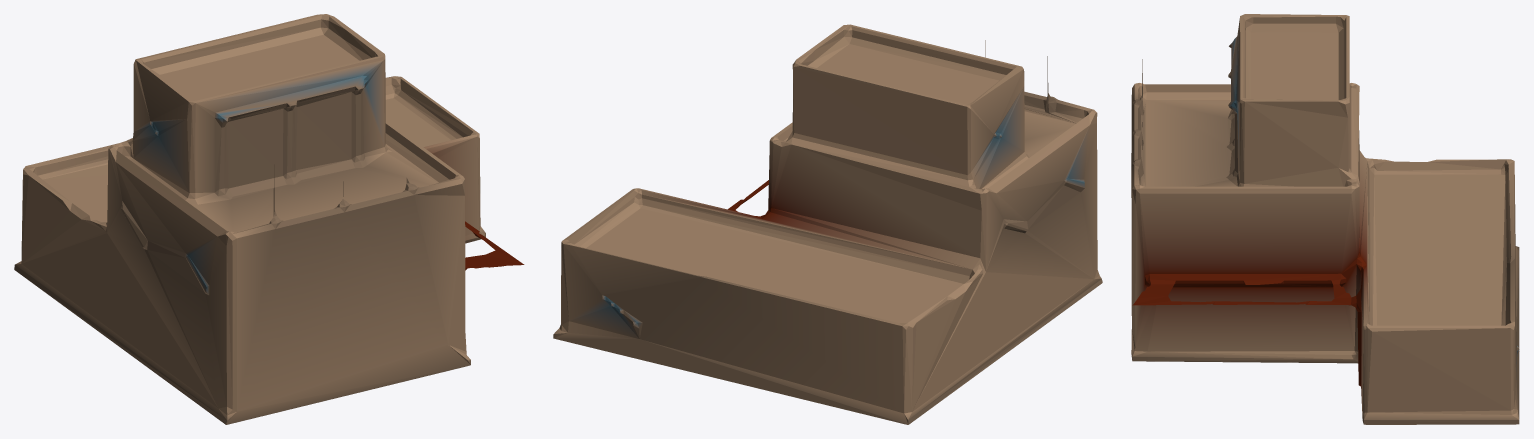
File: Desert Houses.glb
3 renders of one model, left to right at view 1: azimuth 30°, elevation 25°; view 2: azimuth 150°, elevation 25°; view 3: azimuth 270°, elevation 25°, orthographic. The views are drawn at different scales.
Parts seen in each view (by area): view 1: Root; view 2: Root; view 3: Root.
Part boxes in pixels (box(x1,y1,x2,y2)): Root: box(14, 14, 524, 424); Root: box(553, 24, 1102, 424); Root: box(1131, 14, 1519, 424).
Bounding box in the file's own units: 10.08 × 6.83 × 9.56.
